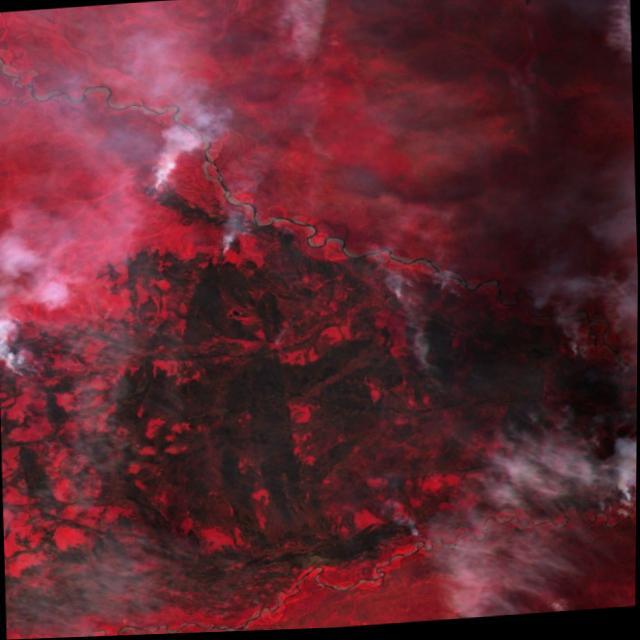fire: (534, 331, 638, 537), (373, 260, 489, 319), (0, 309, 87, 386), (110, 140, 206, 204), (197, 223, 250, 266), (404, 516, 449, 551)
